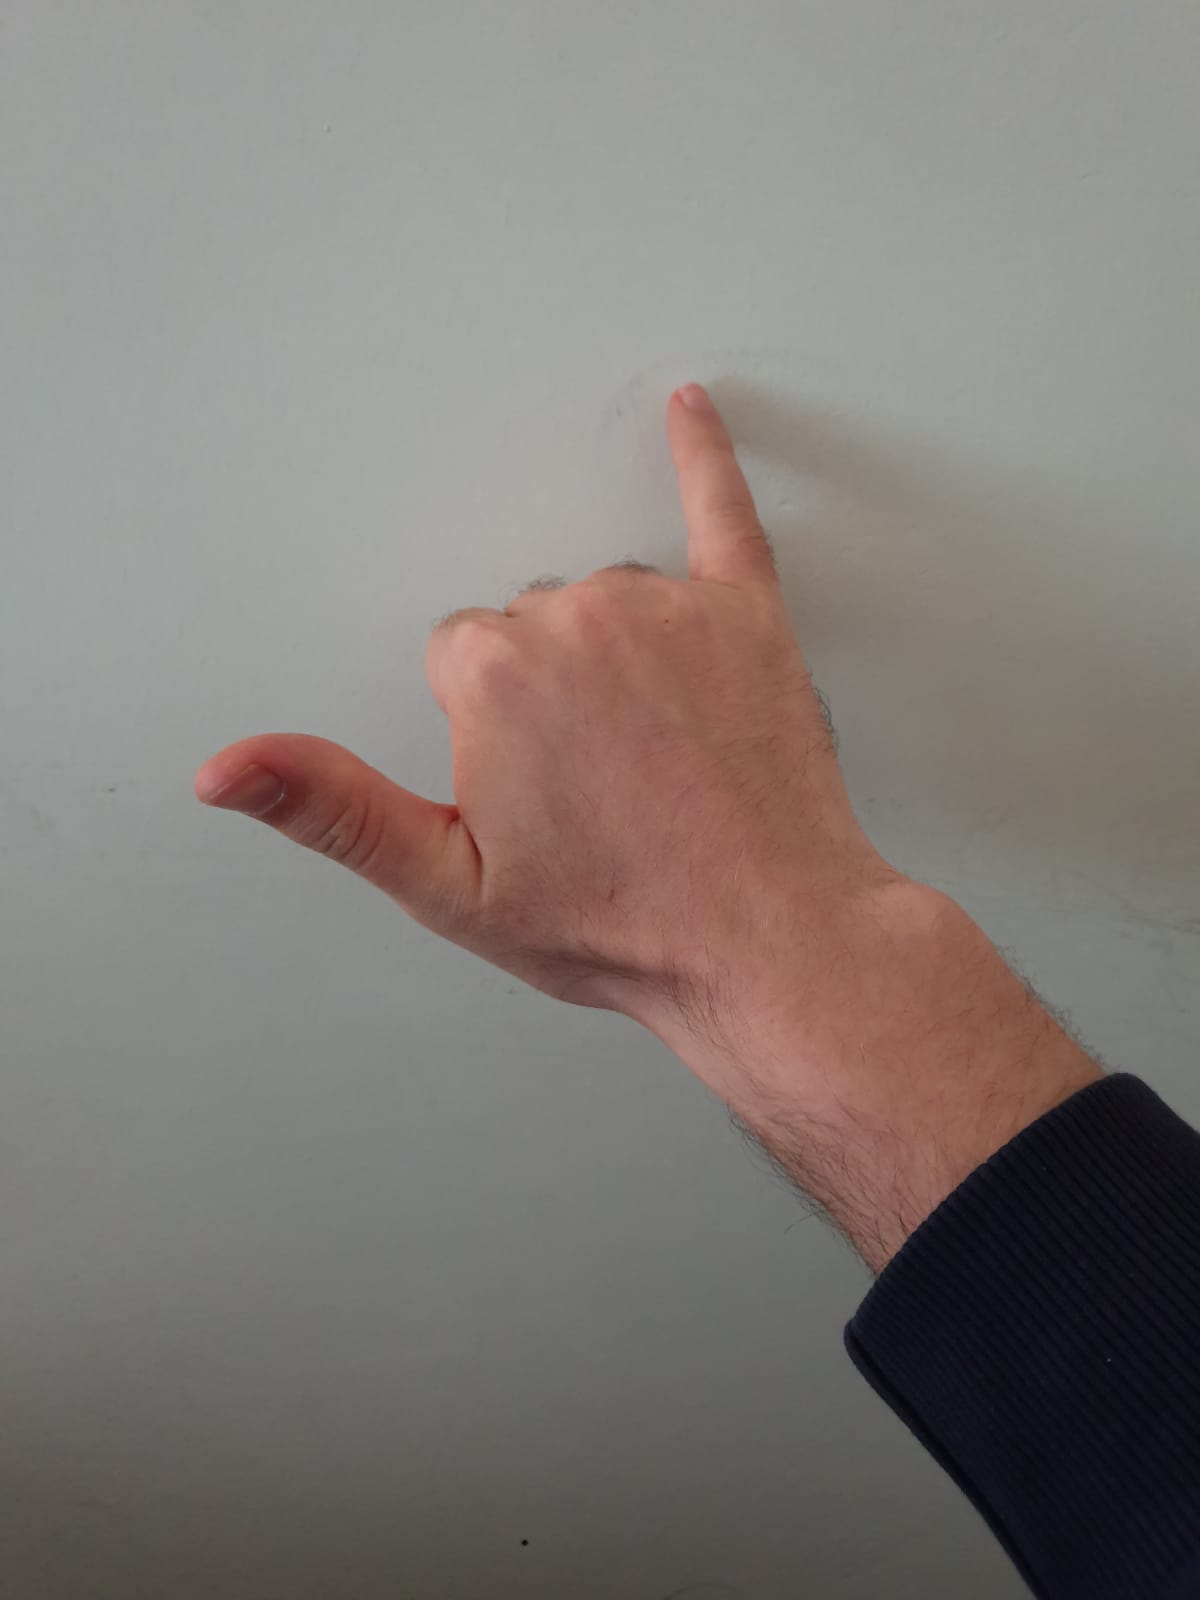Rock: (193, 379, 1103, 1256)
